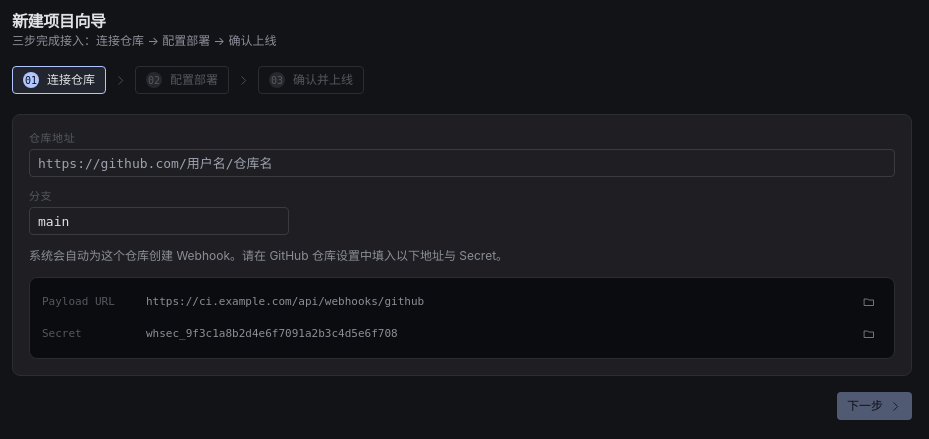
ProjectWizardView › 填了仓库地址后可以进第二步并看到类型识别
In the field labelled "仓库地址": (462, 163) x1=29 y1=149 x2=895 y2=177, type "https://github.com/acme/web-api"
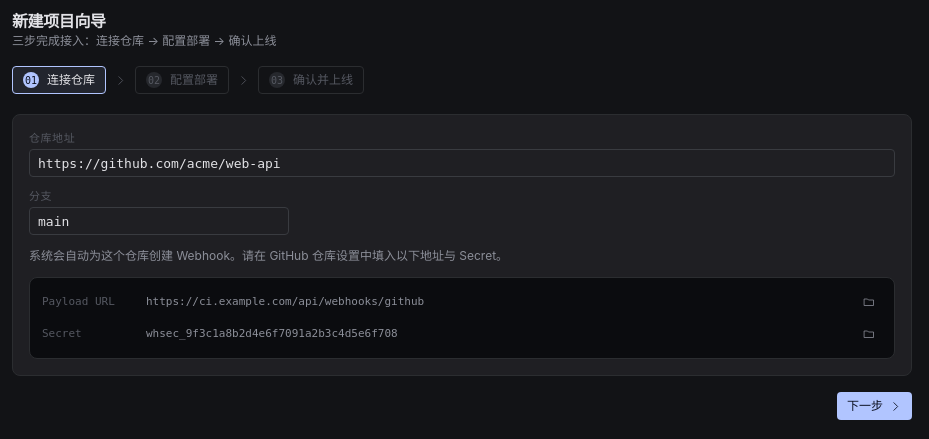
Click the button "下一步": (874, 406) x1=837 y1=392 x2=912 y2=420
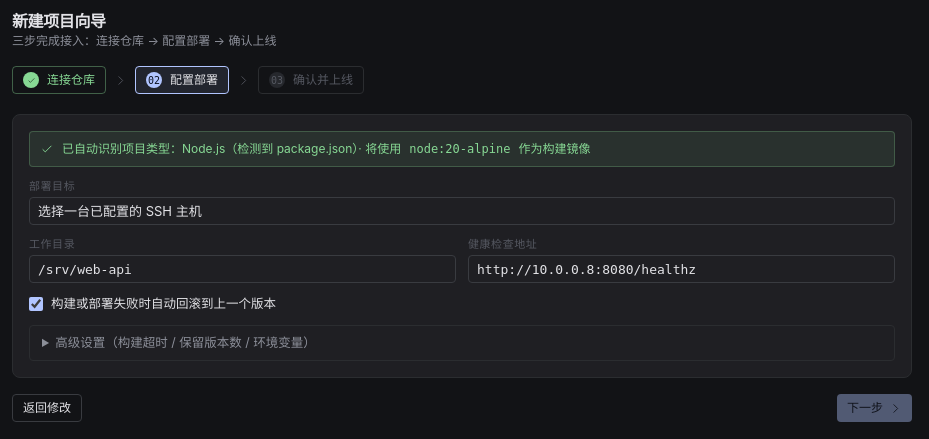
Now the text "已自动识别项目类型：Node.js" is shown, box x1=62 y1=141 x2=401 y2=156
Now the text "package.json" is shown, box x1=62 y1=141 x2=401 y2=156
Now the text "node:20-alpine" is shown, box x1=409 y1=140 x2=510 y2=158
